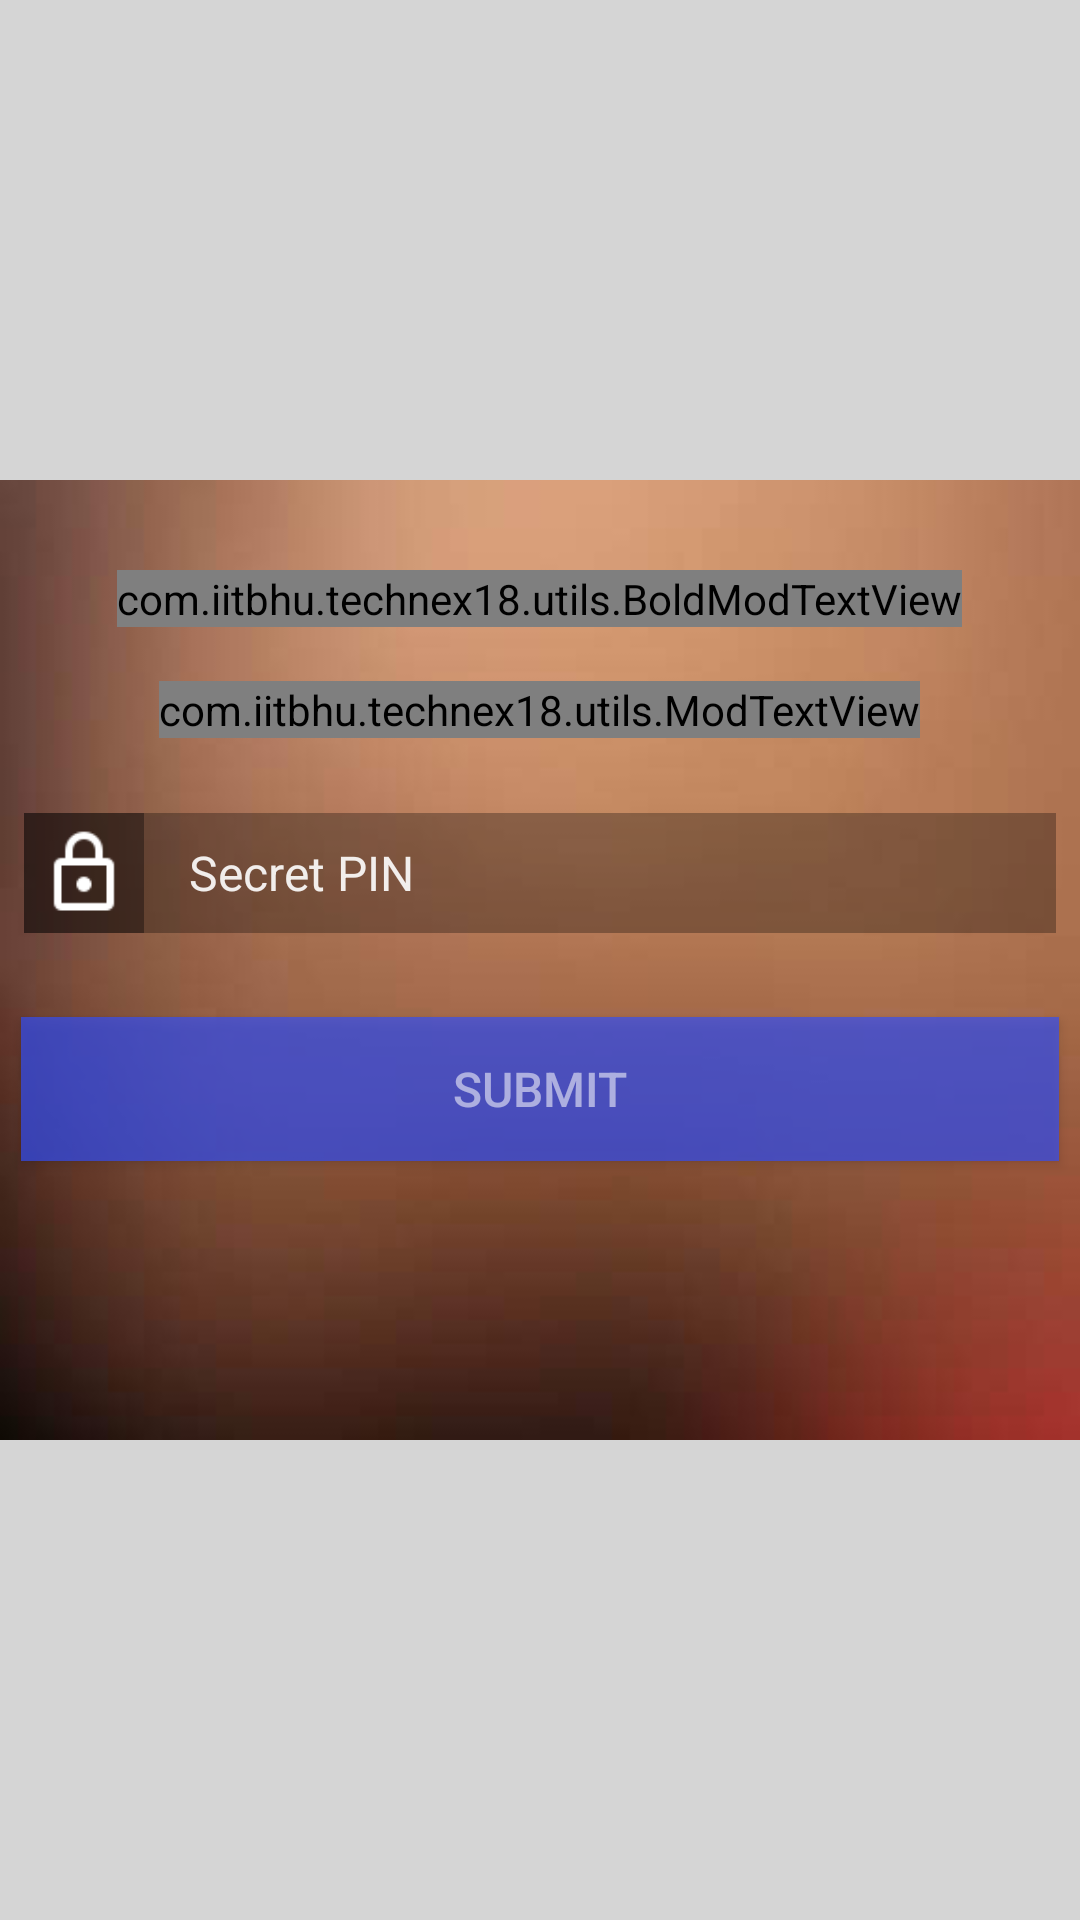

Where icons sit on this 1080*1920 app screen, as detection(x1, y1, x2, y2):
lock out: detection(24, 813, 144, 933)
